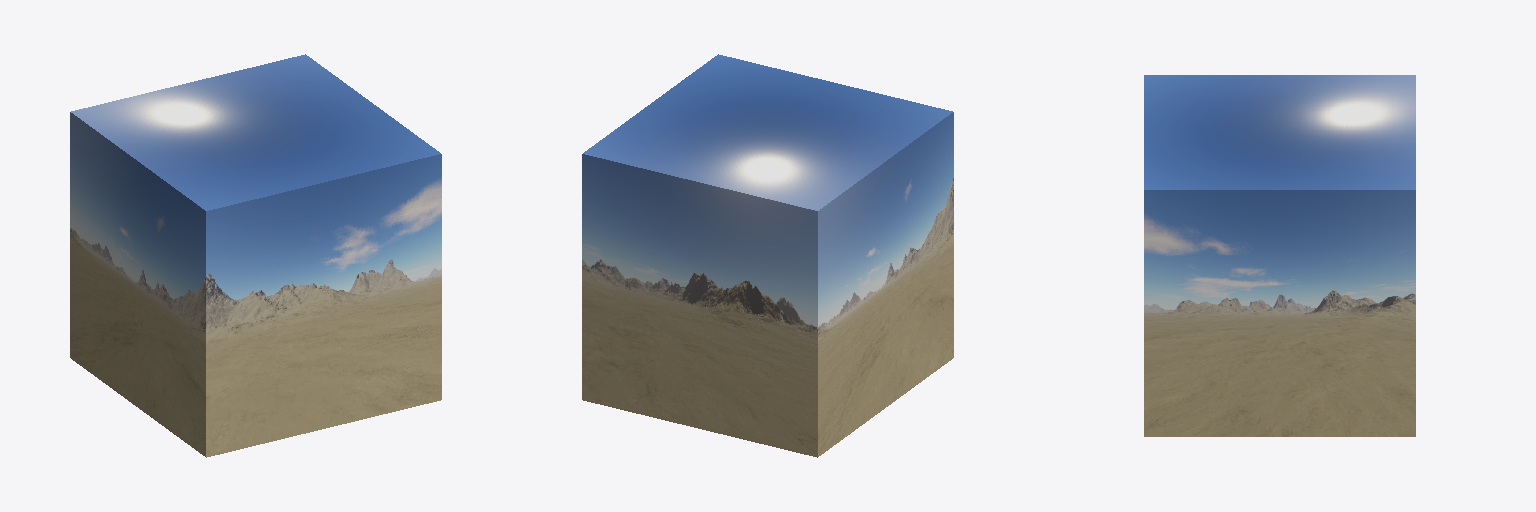
The picture shows the model from 3 angles: view 1: azimuth 30°, elevation 25°; view 2: azimuth 150°, elevation 25°; view 3: azimuth 270°, elevation 25°; orthographic projection.
Bounding box in the file's own units: 2 × 2 × 2.
Materials: 1 (1 with a texture image).